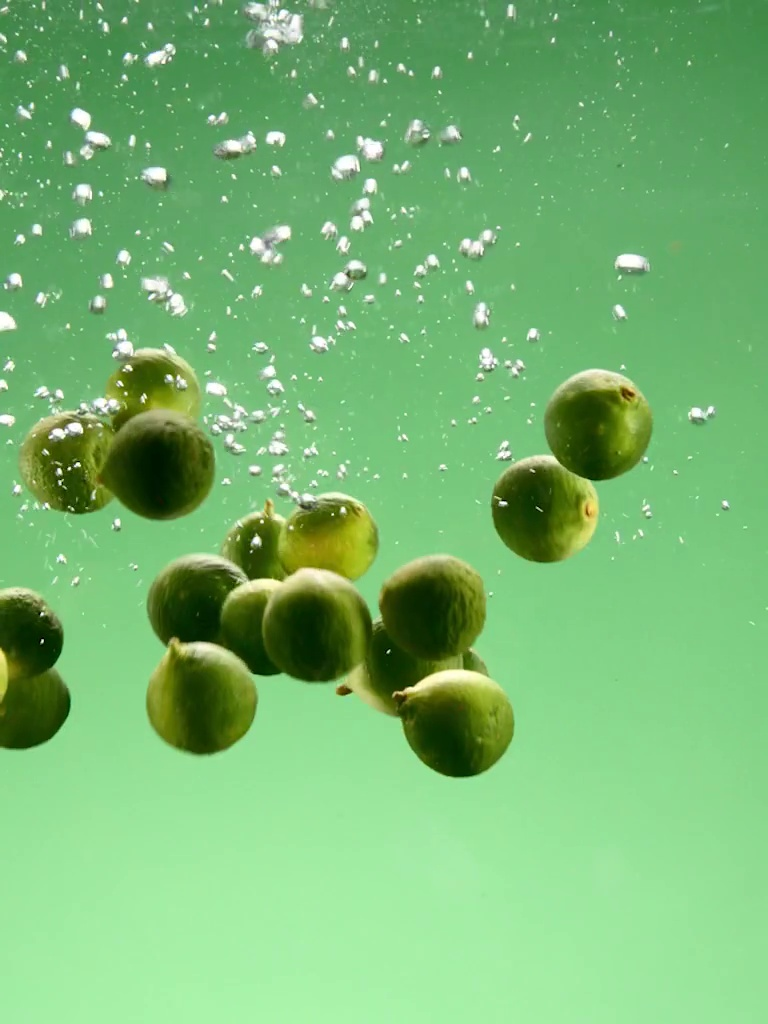Orange: (540, 361, 655, 477)
